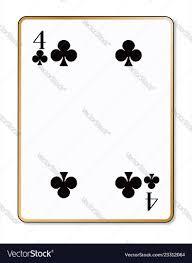four of clubs: (18, 16, 177, 224)
